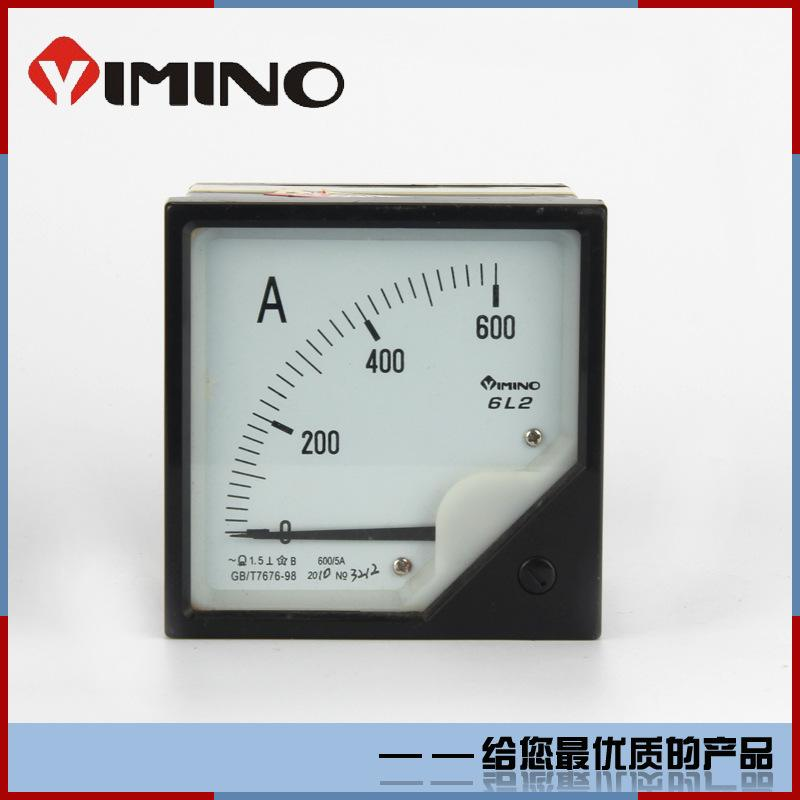pointer: (184, 225, 583, 613)
